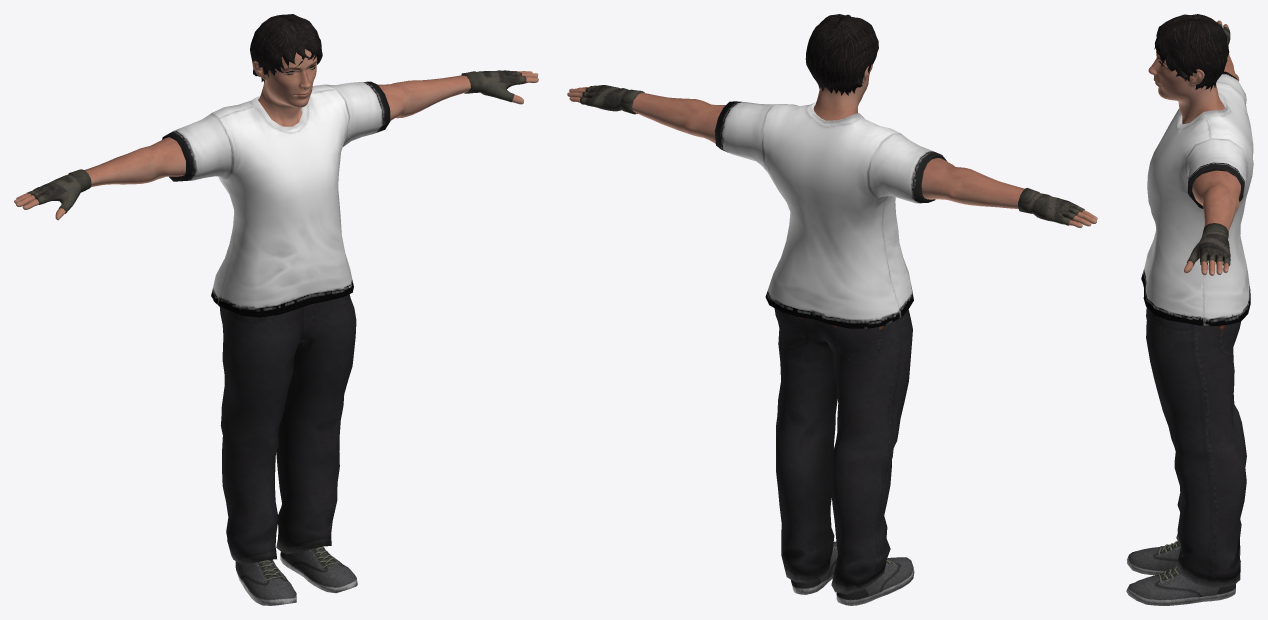
File: AuronModel.obj
3 views of the same model, side by side, from view 1: azimuth 30°, elevation 25°; view 2: azimuth 150°, elevation 25°; view 3: azimuth 270°, elevation 25° (orthographic).
Parts seen in each view (by area): view 1: Tops, Bottoms, Body, Shoes, Hair, Gloves; view 2: Tops, Bottoms, Body, Hair, Gloves, Shoes; view 3: Bottoms, Tops, Body, Hair, Shoes, Gloves.
Boxes of the visible parts, left/top/right/bottom form: Tops: left=162, top=81, right=390, bottom=317; Bottoms: left=220, top=294, right=356, bottom=564; Body: left=14, top=49, right=538, bottom=220; Shoes: left=235, top=546, right=357, bottom=605; Hair: left=250, top=14, right=322, bottom=82; Gloves: left=27, top=70, right=526, bottom=213; Tops: left=714, top=101, right=947, bottom=328; Bottoms: left=774, top=308, right=912, bottom=594; Body: left=567, top=64, right=1097, bottom=227; Hair: left=805, top=14, right=878, bottom=95; Gloves: left=580, top=85, right=1084, bottom=225; Shoes: left=791, top=541, right=914, bottom=605; Bottoms: left=1146, top=307, right=1246, bottom=587; Tops: left=1141, top=71, right=1253, bottom=325; Body: left=1148, top=19, right=1240, bottom=275; Hair: left=1154, top=14, right=1229, bottom=91; Shoes: left=1126, top=541, right=1235, bottom=605; Gloves: left=1186, top=23, right=1230, bottom=266.
Bounding box in the file's own units: 171 × 176 × 35.86.
Materials: 1 (1 with a texture image).
